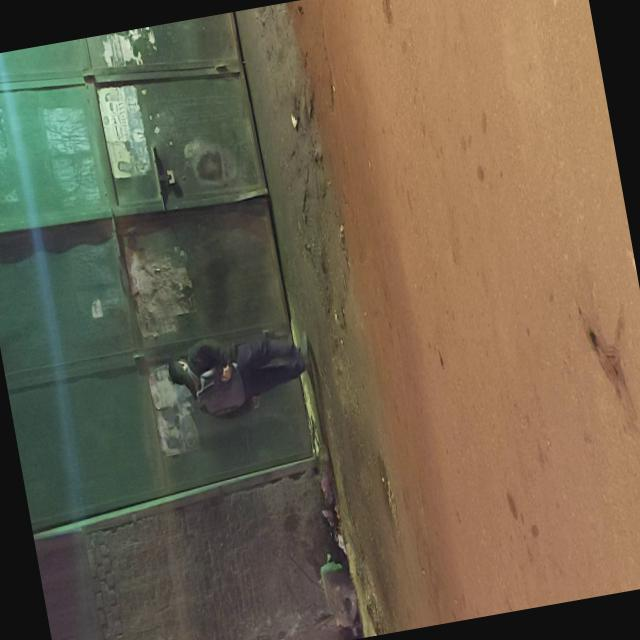long weapon: (189, 352, 243, 411)
